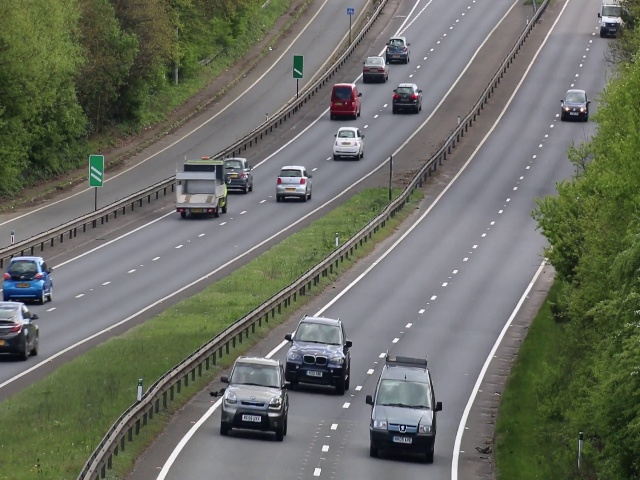car: (371, 356, 437, 465), (221, 356, 290, 442), (287, 313, 351, 394), (174, 155, 230, 220), (4, 254, 56, 305), (1, 299, 45, 359), (274, 163, 313, 201), (223, 156, 257, 193), (330, 82, 362, 119), (596, 1, 626, 39), (331, 127, 365, 160), (392, 82, 424, 114), (560, 89, 590, 120), (362, 56, 390, 85), (385, 35, 411, 65)
